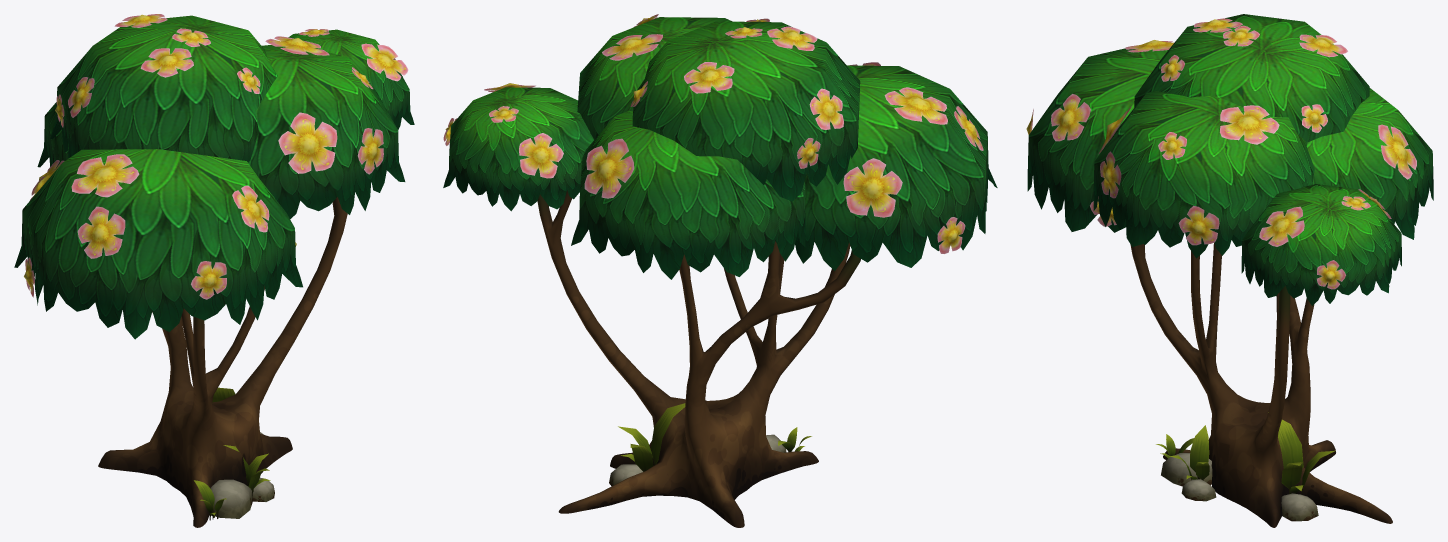
Rendered from Tree2.fbx.
The picture shows the model from 3 angles, left to right: view 1: azimuth 30°, elevation 25°; view 2: azimuth 150°, elevation 25°; view 3: azimuth 270°, elevation 25°; orthographic projection. The views are drawn at different scales.
Visible parts, largest first — view 1: polySurface1005; view 2: polySurface1005; view 3: polySurface1005.
Part boxes in pixels (x1=…): polySurface1005: x1=14, y1=14, x2=414, y2=527; polySurface1005: x1=443, y1=14, x2=997, y2=527; polySurface1005: x1=1026, y1=14, x2=1433, y2=527.
Size of the model in its own units: 5.77 by 5.63 by 4.71.
